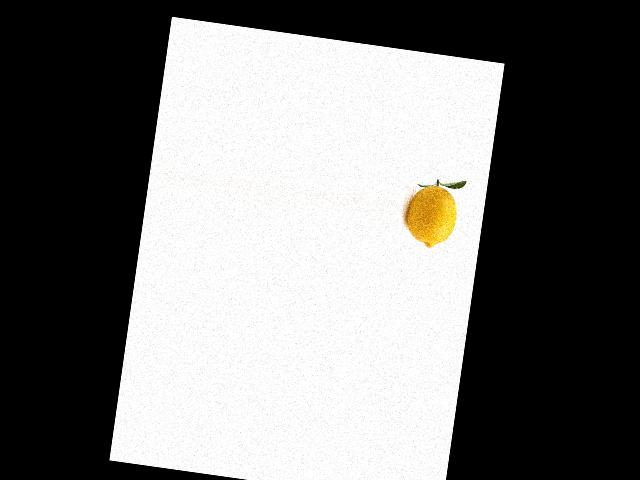lemon: (400, 180, 461, 254)
